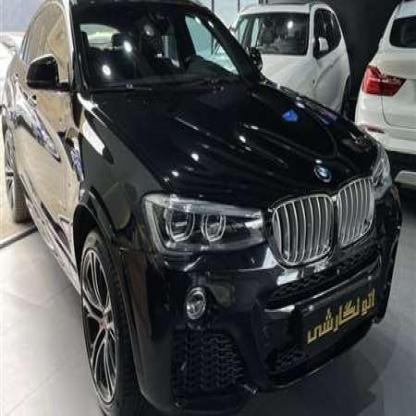Car: (0, 0, 403, 416), (196, 0, 361, 147), (357, 8, 416, 175)
